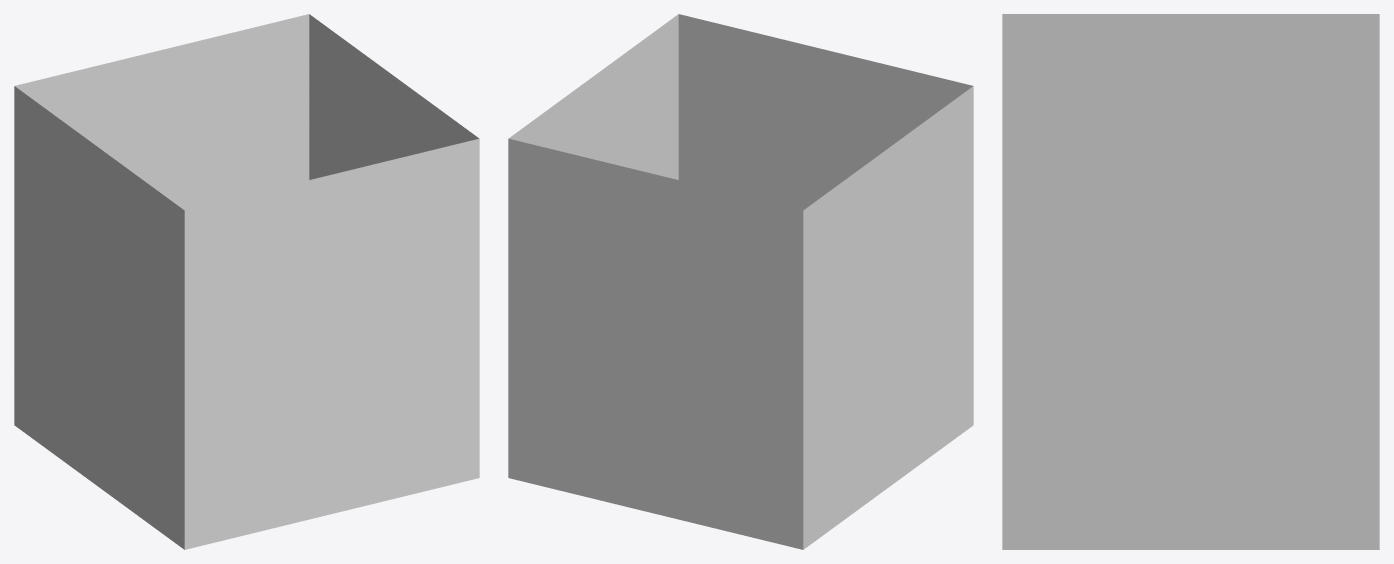
Rendered from FloorQuizHighlight.fbx.
The picture shows the model from 3 angles, left to right: view 1: azimuth 30°, elevation 25°; view 2: azimuth 150°, elevation 25°; view 3: azimuth 270°, elevation 25°; orthographic projection. The views are drawn at different scales.
Visible parts, largest first — view 1: Halo, FloorArea; view 2: Halo, FloorArea; view 3: Halo, FloorArea.
Part boxes in pixels (bbox=[...]): Halo: bbox=[14, 14, 479, 518]; FloorArea: bbox=[14, 394, 479, 549]; Halo: bbox=[508, 14, 973, 518]; FloorArea: bbox=[508, 394, 973, 549]; Halo: bbox=[1002, 14, 1379, 515]; FloorArea: bbox=[1002, 515, 1379, 549].
Size of the model in its own units: 1 by 1.1 by 1.
Materials: 1 (1 with a texture image).
